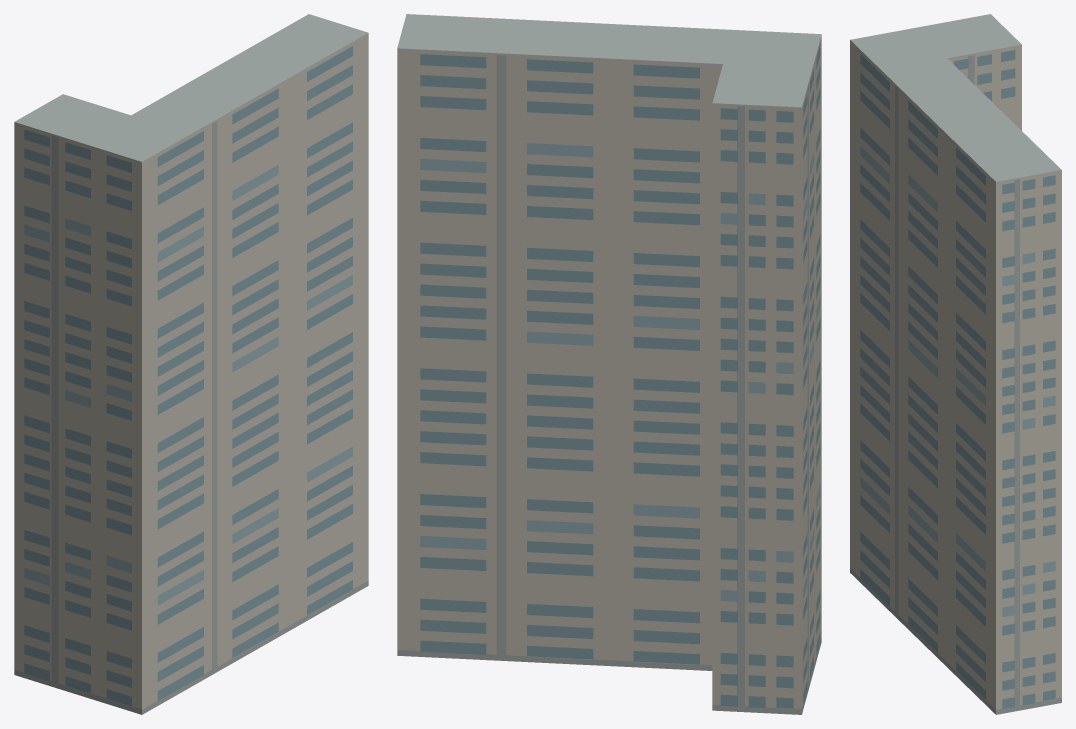
File: residential-e6b9bc96-67cd-4247-ab45-7b65c36632c8.glb
The picture shows the model from 3 angles, left to right: view 1: azimuth 30°, elevation 25°; view 2: azimuth 150°, elevation 25°; view 3: azimuth 270°, elevation 25°; orthographic projection. The views are drawn at different scales.
Parts seen in each view (by area): view 1: residential-e6b9bc96-67cd-4247-ab45-7b65c36632c8.tmp; view 2: residential-e6b9bc96-67cd-4247-ab45-7b65c36632c8.tmp; view 3: residential-e6b9bc96-67cd-4247-ab45-7b65c36632c8.tmp.
Part boxes in pixels (x1,y1,x2,y2): residential-e6b9bc96-67cd-4247-ab45-7b65c36632c8.tmp: [14, 14, 368, 714]; residential-e6b9bc96-67cd-4247-ab45-7b65c36632c8.tmp: [397, 14, 821, 714]; residential-e6b9bc96-67cd-4247-ab45-7b65c36632c8.tmp: [850, 14, 1061, 714].
Size of the model in its own units: 55.43 by 82 by 29.53.
